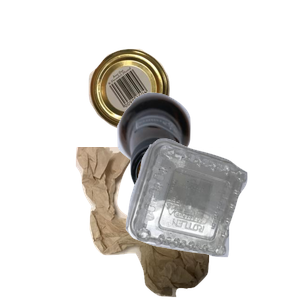glass: (115, 90, 300, 270)
metal: (86, 46, 248, 169)
plastic: (123, 136, 300, 300)
trash: (73, 147, 300, 300)
